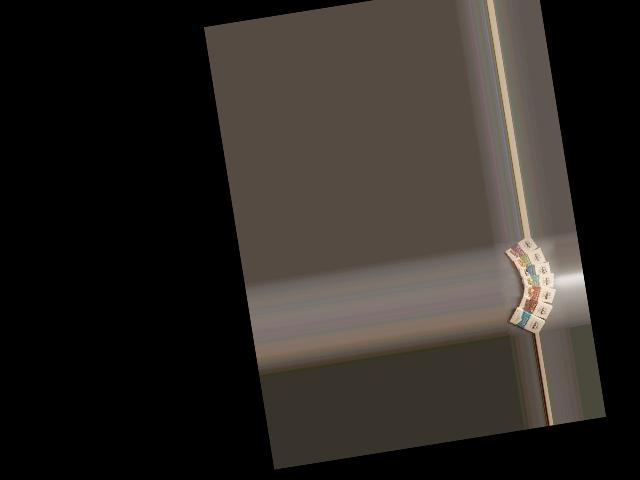chocolate: (505, 302, 547, 337)
